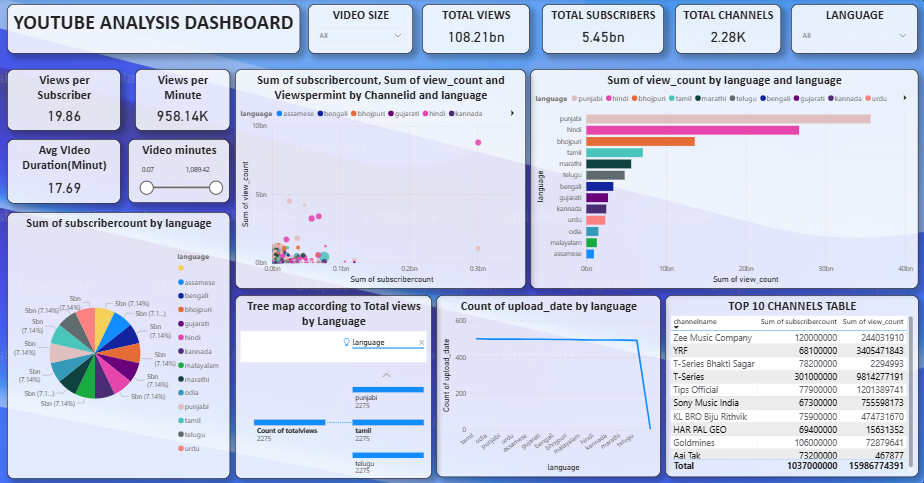

The dashboard page shown, as its layout file describes it:
{"tool":"powerbi","page":{"name":"Page 1","canvas":[1700,887],"ordinal":0},"visuals":[{"type":"card","title":"TOTAL CHANNELS","fields":{"Values":["CountNonNull(channel_master.Channelid)"]},"box":[1243,9.1,193.8,91.4],"z":0},{"type":"card","title":"TOTAL SUBSCRIBERS","fields":{"Values":["Sum(channel_master.subscribercount)"]},"box":[999.9,9.1,223,91.4],"z":1000},{"type":"card","title":"TOTAL VIEWS","fields":{"Values":["Sum(video_summary.view_count)"]},"box":[780.5,9.1,197.4,91.4],"z":2000},{"type":"textbox","box":[21.9,9.1,535.6,91.4],"z":3000},{"type":"pieChart","fields":{"Category":["video_summary.language"],"Y":["Sum(channel_master.subscribercount)"]},"box":[21.9,389.4,407.6,488.1],"z":4000},{"type":"tableEx","title":"TOP 10 CHANNELS TABLE","fields":{"Values":["channel_master.channelname","Sum(channel_master.subscribercount)","Sum(video_summary.view_count)"]},"box":[1224.7,541.1,464.3,332.7],"z":5000},{"type":"barChart","fields":{"Category":["video_summary.language"],"Series":["video_summary.language"],"Y":["Sum(video_summary.view_count)"]},"box":[978,128,710,402],"z":6000},{"type":"slicer","title":"LANGUAGE","fields":{"Values":["video_summary.language"]},"box":[1455.1,9.1,232.2,91.4],"z":7000},{"type":"card","title":"Views per Subscriber","fields":{"Values":["channel_master.Measure Viewpersubscriber"]},"box":[21.7,128.3,208.3,113.3],"z":8000},{"type":"card","title":"Avg VIdeo Duration(Minut)","fields":{"Values":["Avg(video_summary.duration_mints)"]},"box":[21.7,255,208.3,118.3],"z":9000},{"type":"card","title":"Views per Minute","fields":{"Values":["video_summary.Viewspermint"]},"box":[255.9,128,173.7,113.3],"z":10000},{"type":"slicer","title":"Video minutes","fields":{"Values":["video_summary.duration_mints"]},"box":[243.1,255.9,186.5,117],"z":11000},{"type":"lineChart","fields":{"Category":["video_summary.language"],"Y":["CountNonNull(video_summary.upload_date)"]},"box":[806.1,541.1,411.3,332.7],"z":12000},{"type":"decompositionTreeVisual","title":"Tree map according to Total views by Language","fields":{"Analyze":["CountNonNull(channel_master.totalviews)"],"ExplainBy":["video_summary.language"]},"box":[438.7,541.1,360.1,336.3],"z":13000},{"type":"scatterChart","fields":{"Y":["Sum(video_summary.view_count)"],"X":["Sum(channel_master.subscribercount)"],"Series":["video_summary.language"],"Size":["video_summary.Viewspermint"],"Category":["channel_master.Channelid"]},"box":[438.7,128,531.9,402.2],"z":14000},{"type":"slicer","title":"VIDEO SIZE","fields":{"Values":["video_summary.VideoSizeByDuration"]},"box":[572.2,9.1,191.9,91.4],"z":16000}]}

Visuals, with their boxes in screenshot pixels (x1, y1, x2, y2), scaled from the page's 1700x887 canvas onto the 924x483 screenshot:
"TOTAL CHANNELS" card: 676, 5, 781, 55
"TOTAL SUBSCRIBERS" card: 543, 5, 665, 55
"TOTAL VIEWS" card: 424, 5, 532, 55
textbox: 12, 5, 303, 55
pieChart - video_summary.language x Sum(channel_master.subscribercount): 12, 212, 233, 478
"TOP 10 CHANNELS TABLE" tableEx: 666, 295, 918, 476
barChart - video_summary.language x video_summary.language: 532, 70, 917, 289
"LANGUAGE" slicer: 791, 5, 917, 55
"Views per Subscriber" card: 12, 70, 125, 132
"Avg VIdeo Duration(Minut)" card: 12, 139, 125, 203
"Views per Minute" card: 139, 70, 234, 131
"Video minutes" slicer: 132, 139, 234, 203
lineChart - video_summary.language x CountNonNull(video_summary.upload_date): 438, 295, 662, 476
"Tree map according to Total views by Language" decompositionTreeVisual: 238, 295, 434, 478
scatterChart - Sum(video_summary.view_count) x Sum(channel_master.subscribercount): 238, 70, 528, 289
"VIDEO SIZE" slicer: 311, 5, 415, 55
